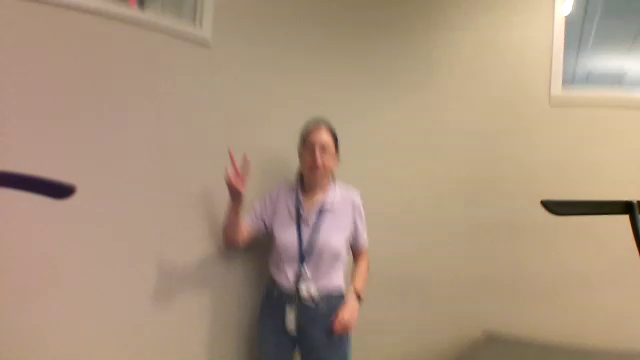peace: (225, 139, 254, 201)
